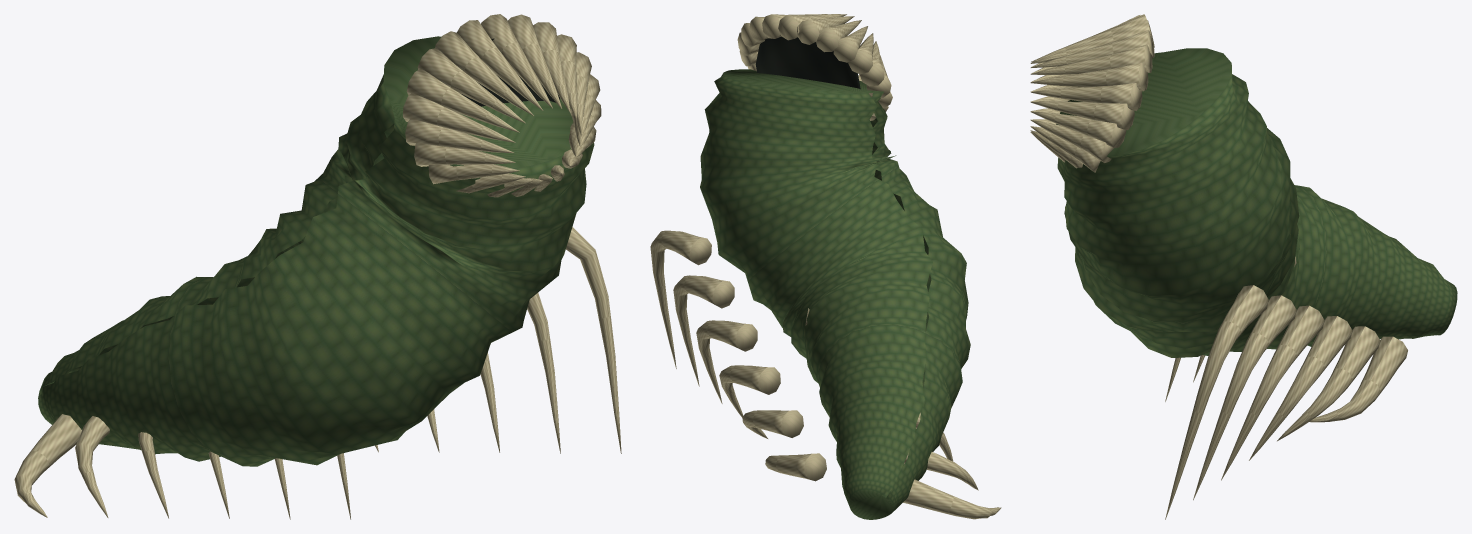
File: special-crypt-worm.glb
3 views of the same model, side by side, from view 1: azimuth 30°, elevation 25°; view 2: azimuth 150°, elevation 25°; view 3: azimuth 270°, elevation 25° (orthographic). The views are drawn at different scales.
Visible parts, largest first — view 1: scale, bone; view 2: scale, bone, dark; view 3: scale, bone.
Boxes of the visible parts, box(x1,y1,x2,y2) form: scale: box(38, 36, 594, 466); bone: box(14, 14, 621, 519); scale: box(700, 69, 970, 519); bone: box(650, 14, 1001, 519); dark: box(755, 36, 860, 89); scale: box(1056, 48, 1457, 357); bone: box(1030, 14, 1407, 519).
Size of the model in its own units: 1.13 by 1.02 by 0.919.
3 materials, 3 textured.
